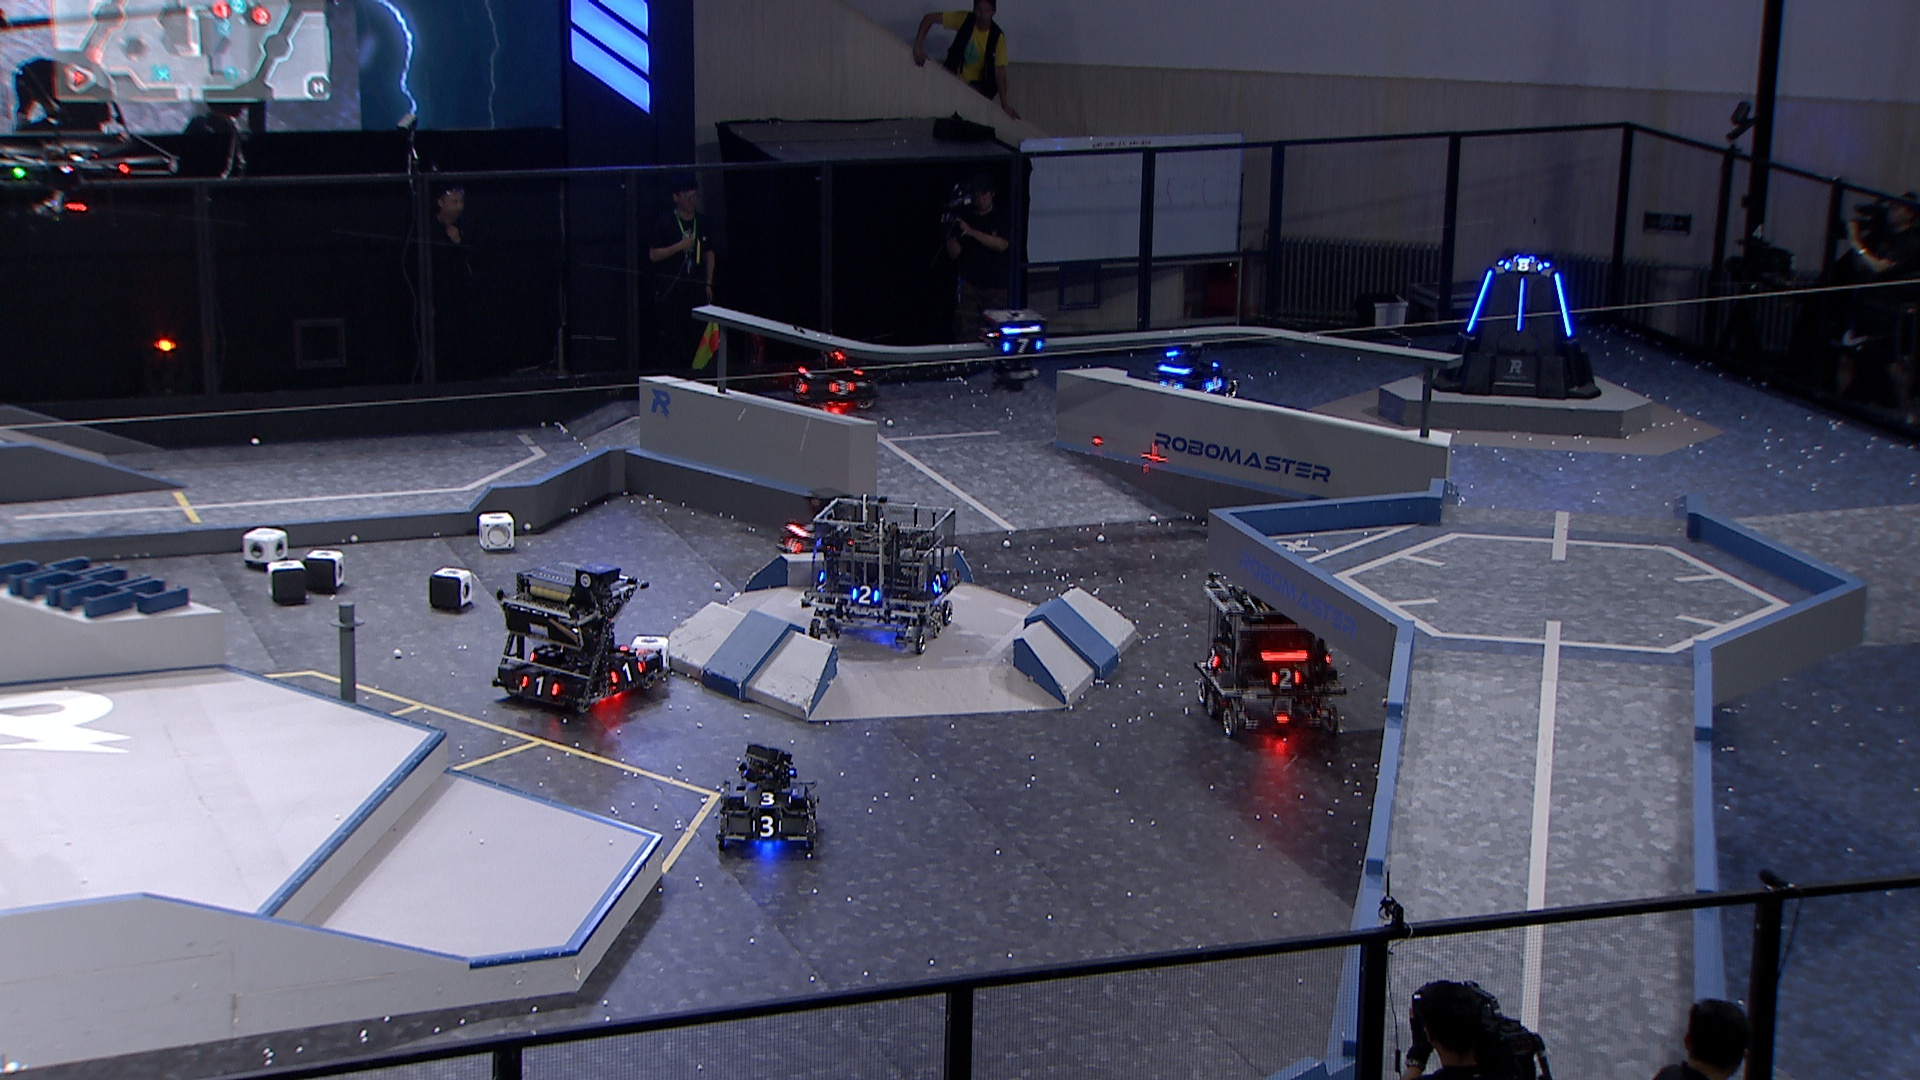armor: (1462, 266, 1501, 334), (1551, 268, 1575, 338), (514, 675, 562, 699), (740, 789, 796, 807), (607, 657, 645, 683), (1513, 272, 1528, 334), (1269, 666, 1304, 690), (749, 815, 785, 839), (1503, 256, 1545, 276), (849, 583, 884, 607), (997, 338, 1044, 353), (827, 377, 858, 396), (781, 531, 802, 556), (1203, 646, 1224, 670), (928, 572, 949, 595), (1204, 373, 1225, 396), (790, 376, 811, 396)
base: (1429, 248, 1604, 404)
car: (491, 553, 669, 713), (806, 491, 969, 655), (1193, 567, 1349, 735), (713, 740, 822, 855), (775, 491, 887, 585), (1139, 334, 1240, 418), (785, 335, 878, 414)
watcher: (977, 306, 1051, 392)
